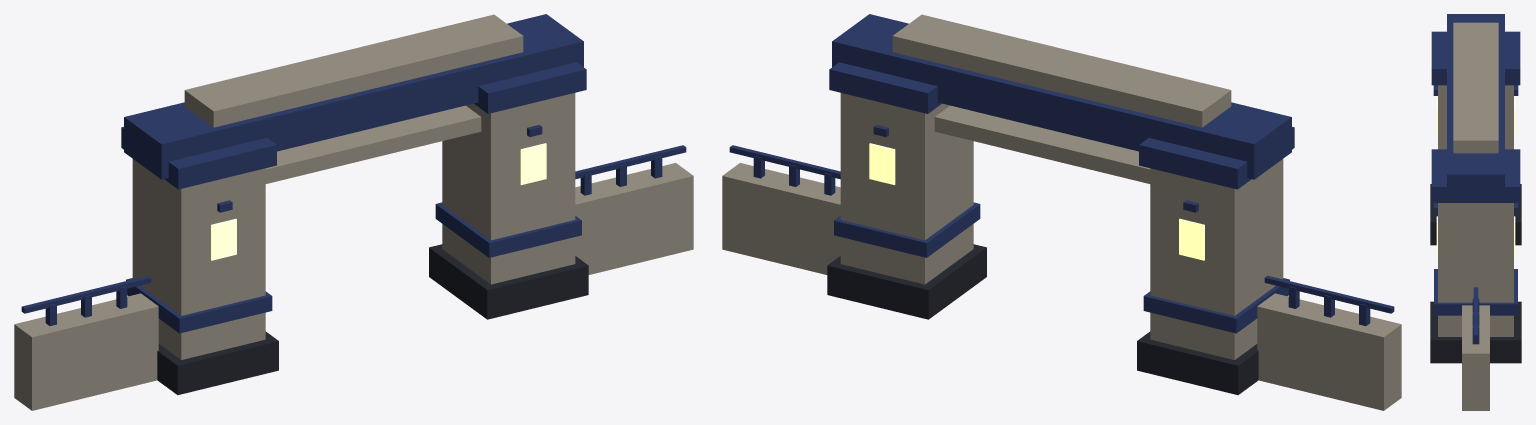
File: gate-high.glb
3 renders of one model, left to right at view 1: azimuth 30°, elevation 25°; view 2: azimuth 150°, elevation 25°; view 3: azimuth 270°, elevation 25°, orthographic. The views are drawn at different scales.
Bounding box in the file's own units: 47 × 17.7 × 7.2.
